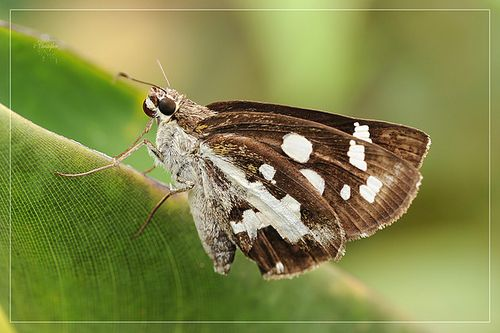Hesperiidae: (51, 59, 435, 280)
